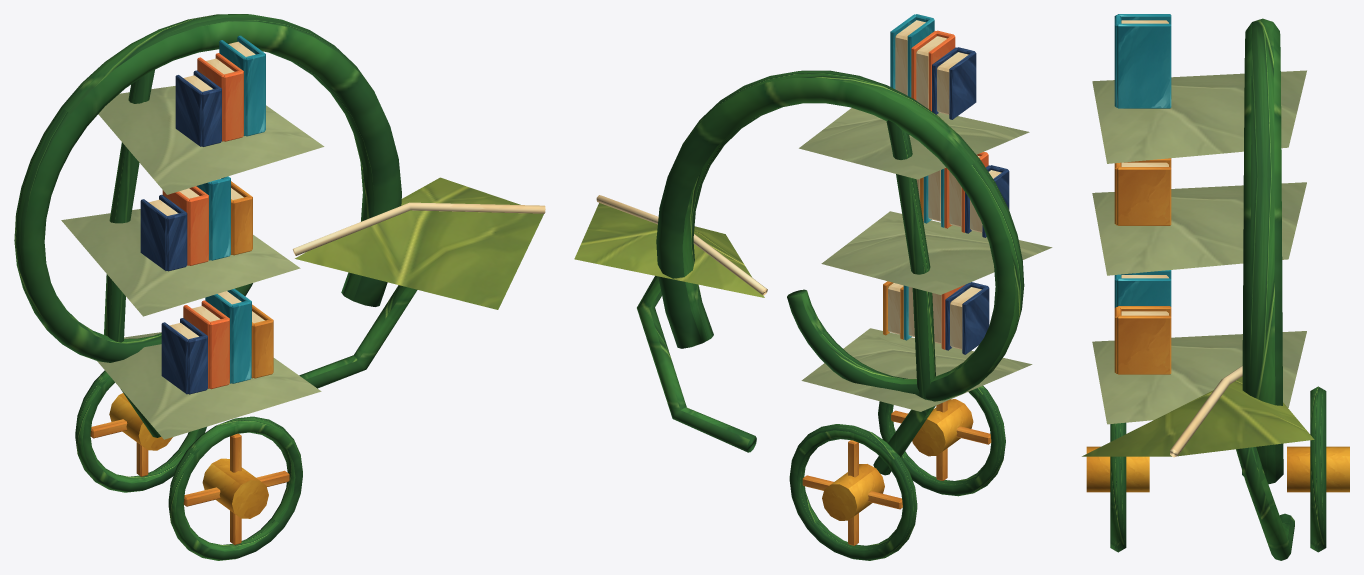
File: revised-02-06.glb
The picture shows the model from 3 angles, left to right: view 1: azimuth 30°, elevation 25°; view 2: azimuth 150°, elevation 25°; view 3: azimuth 270°, elevation 25°; orthographic projection. The views are drawn at different scales.
Visible parts, largest first — view 1: snail_library; view 2: snail_library; view 3: snail_library.
Boxes of the visible parts, x1,y1,x2,y2 form: snail_library: (14,14,545,560); snail_library: (574,14,1052,560); snail_library: (1082,14,1349,560).
Bounding box in the file's own units: 1.63 × 1.59 × 0.725.
2 materials, 2 textured.
